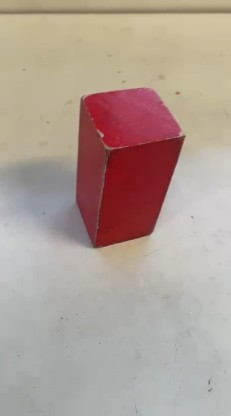red: (80, 74, 182, 243)
